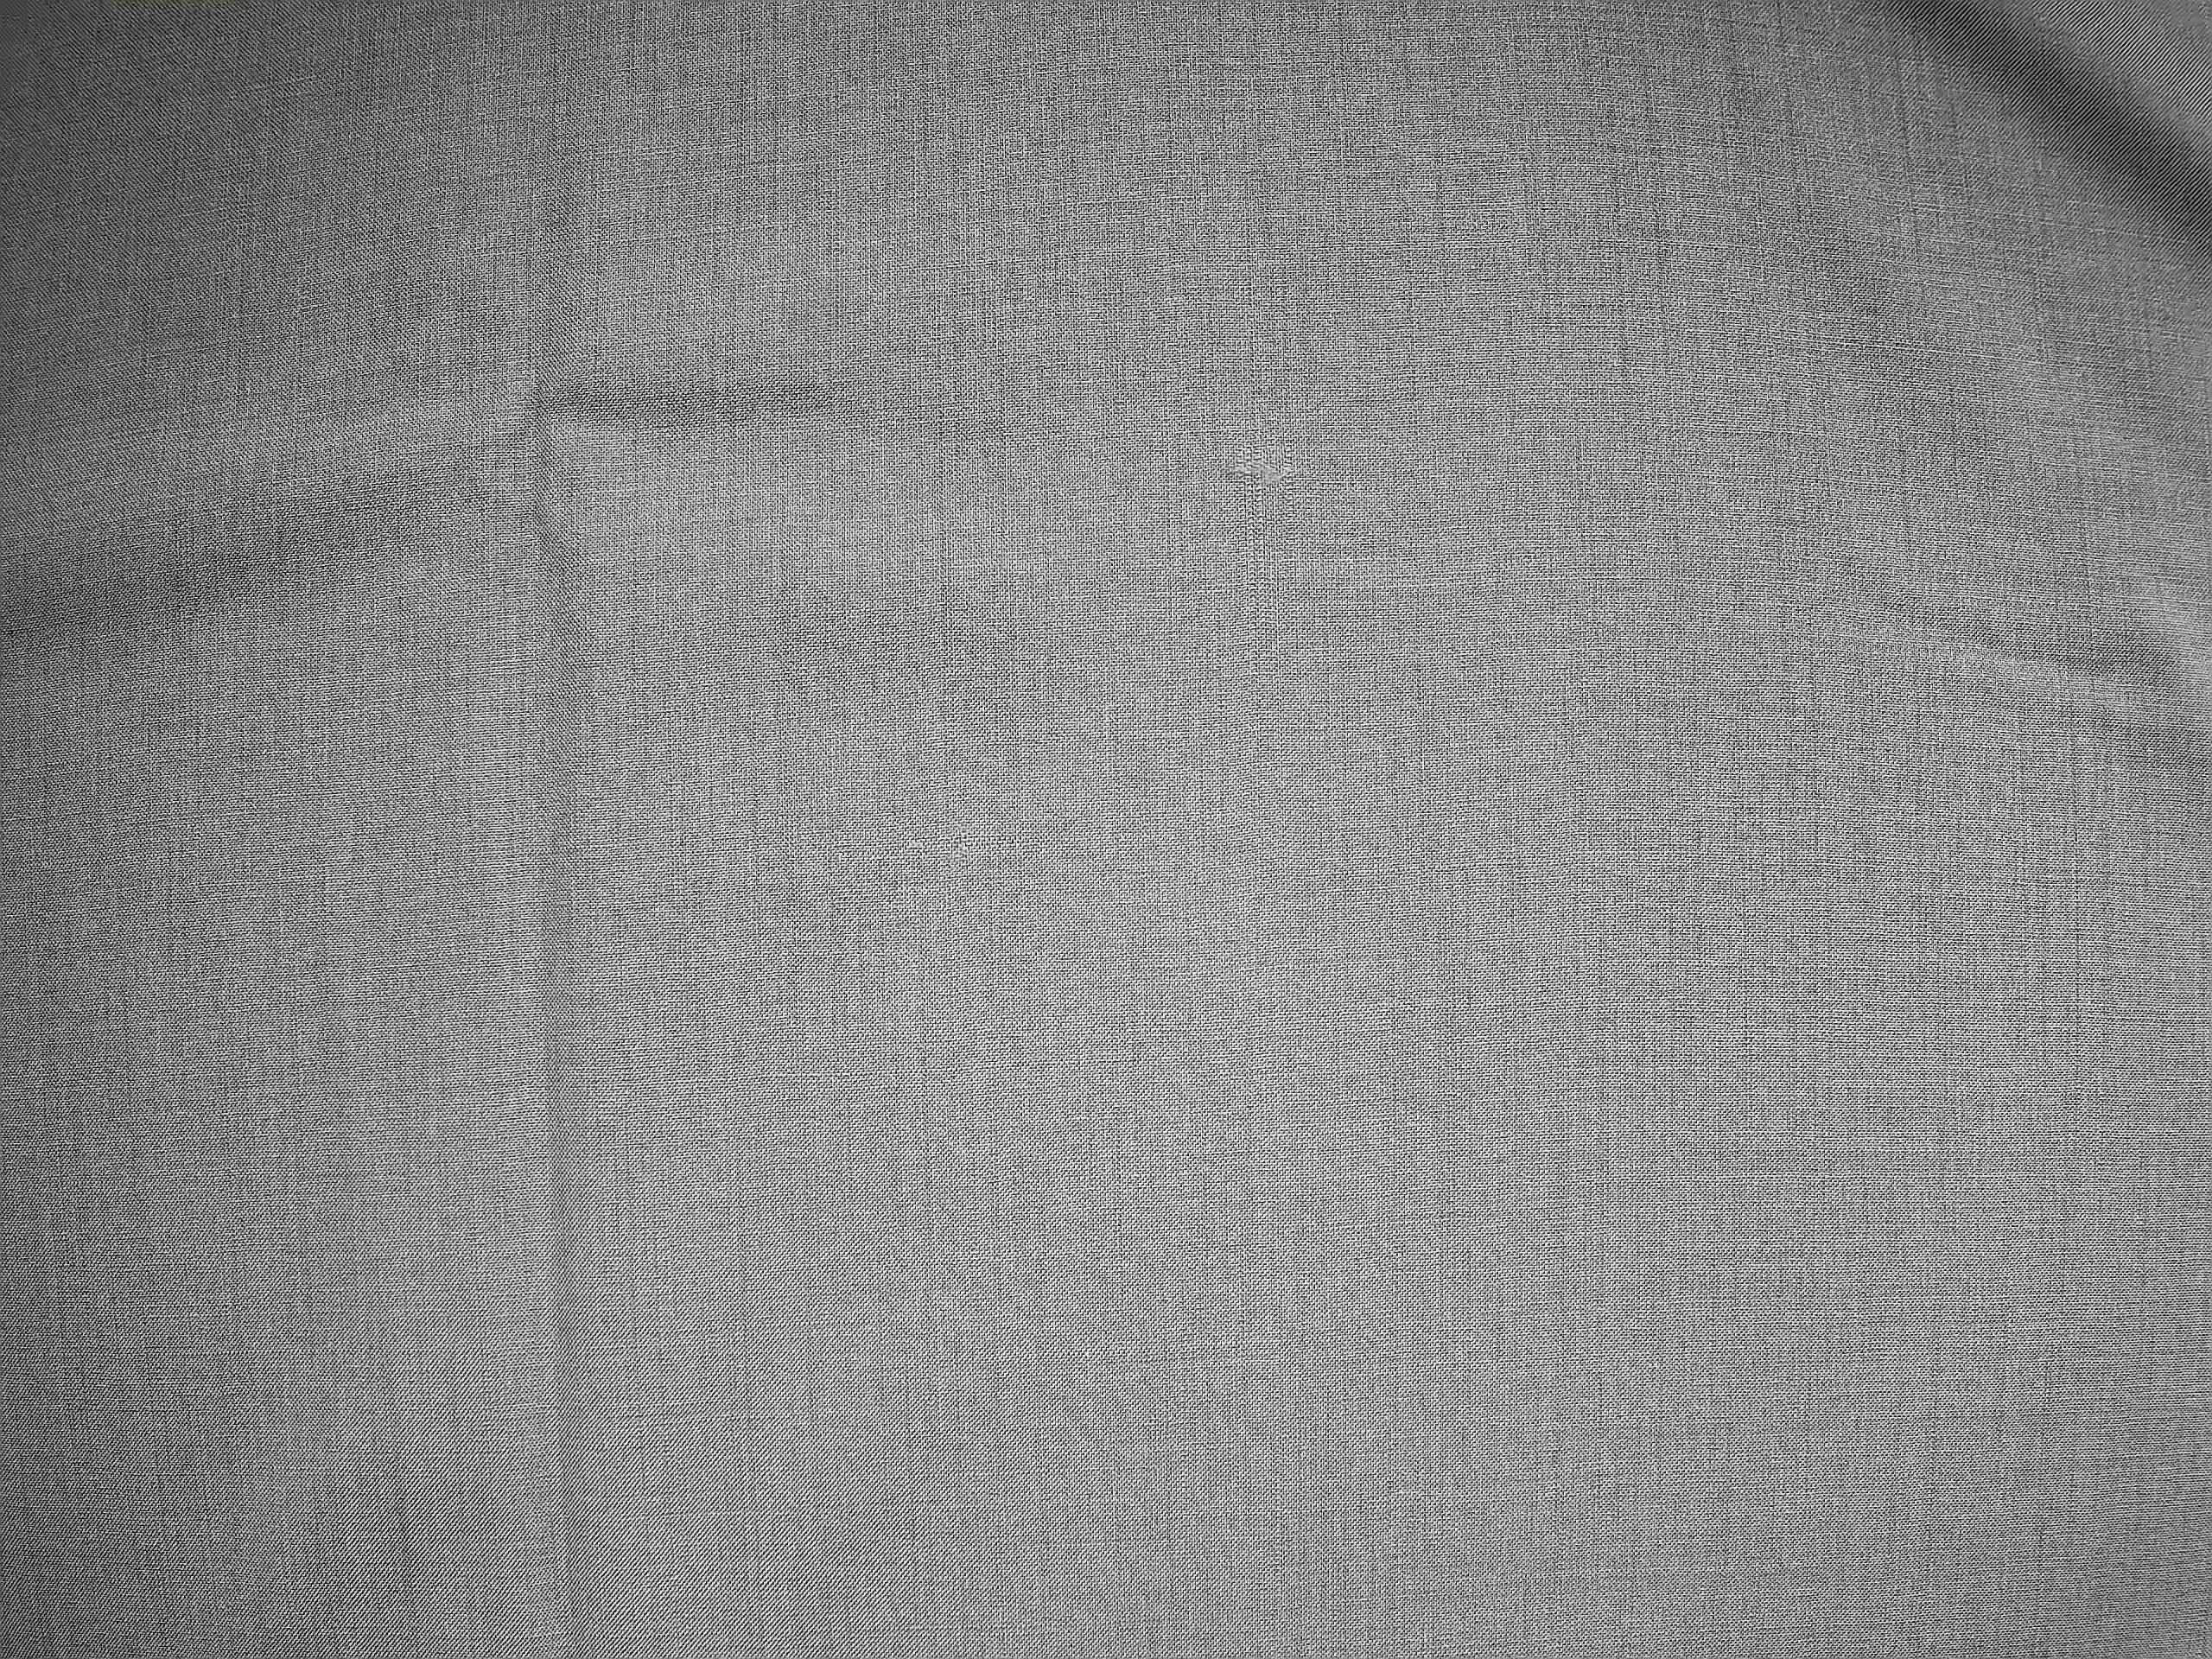hanging-warp: (1202, 392, 1320, 645)
